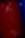cylinder: (1, 1, 25, 38)
